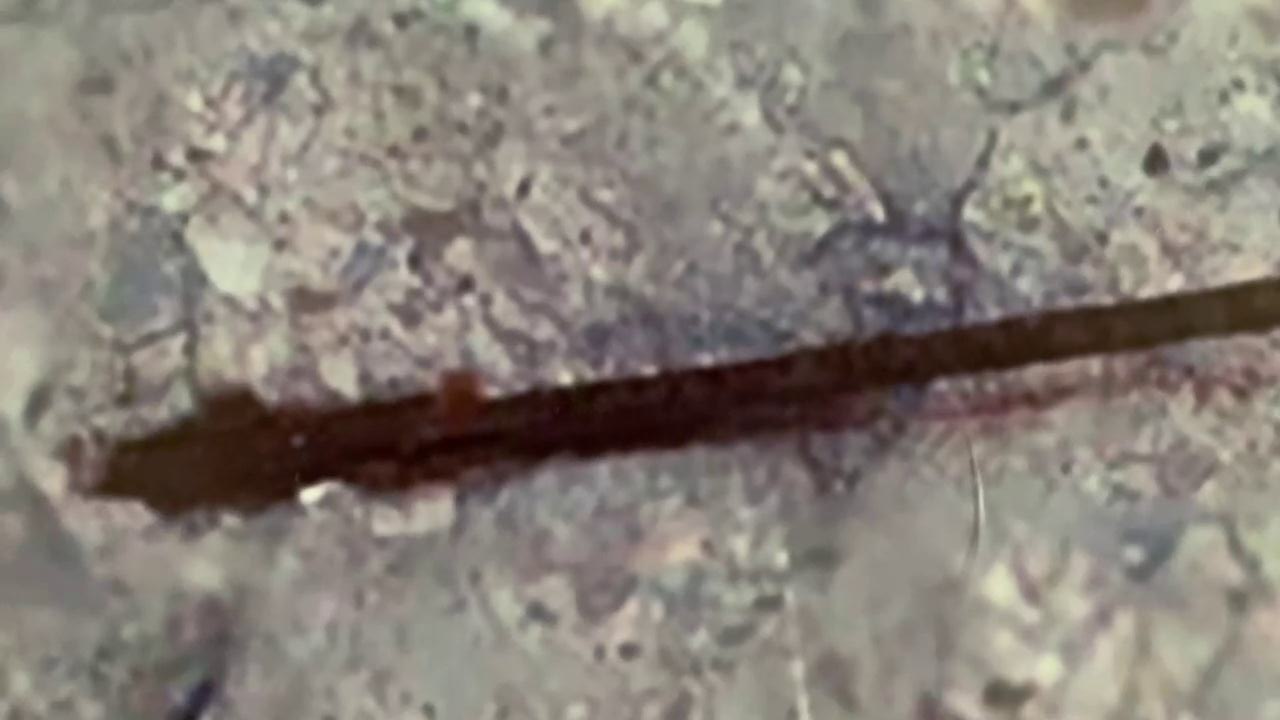Exposed reinforcement: (83, 276, 1280, 525)
